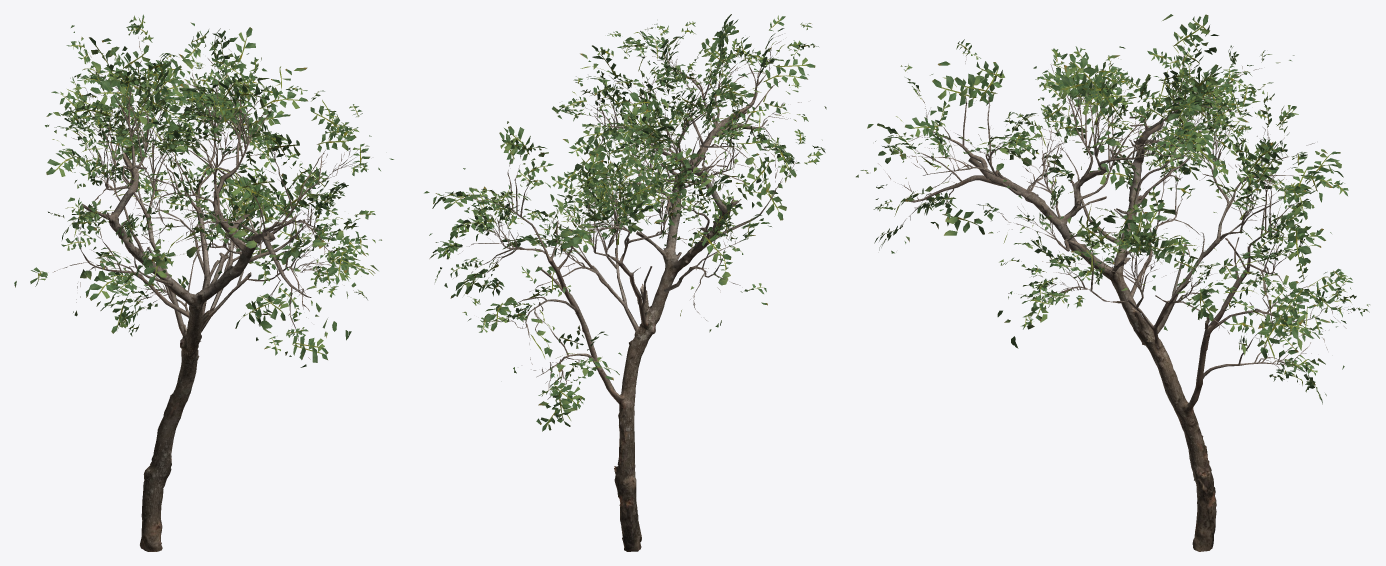
Rendered from tree_a.glb.
The picture shows the model from 3 angles, left to right: view 1: azimuth 30°, elevation 25°; view 2: azimuth 150°, elevation 25°; view 3: azimuth 270°, elevation 25°; orthographic projection. The views are drawn at different scales.
Parts seen in each view (by area): view 1: tree_small_02_leaves, tree_small_02, tree_small_02_branches; view 2: tree_small_02_leaves, tree_small_02, tree_small_02_branches; view 3: tree_small_02_leaves, tree_small_02, tree_small_02_branches.
Part boxes in pixels (box(x1,y1,x2,y2)): tree_small_02_leaves: box(14, 14, 393, 367); tree_small_02: box(82, 152, 296, 551); tree_small_02_branches: box(53, 37, 368, 359); tree_small_02_leaves: box(424, 14, 826, 431); tree_small_02: box(533, 110, 747, 551); tree_small_02_branches: box(453, 34, 801, 399); tree_small_02_leaves: box(856, 14, 1369, 404); tree_small_02: box(968, 116, 1250, 551); tree_small_02_branches: box(878, 47, 1351, 380).
Bounding box in the file's own units: 2.91 × 4.57 × 4.23.
3 materials, 3 textured.
